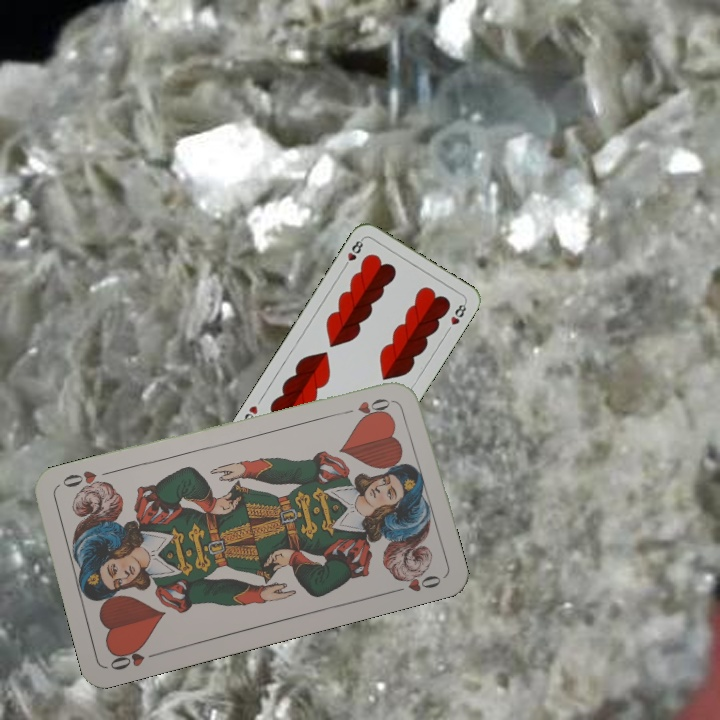H8: (340, 235, 366, 271)
HO: (106, 642, 163, 673), (338, 394, 396, 419)
